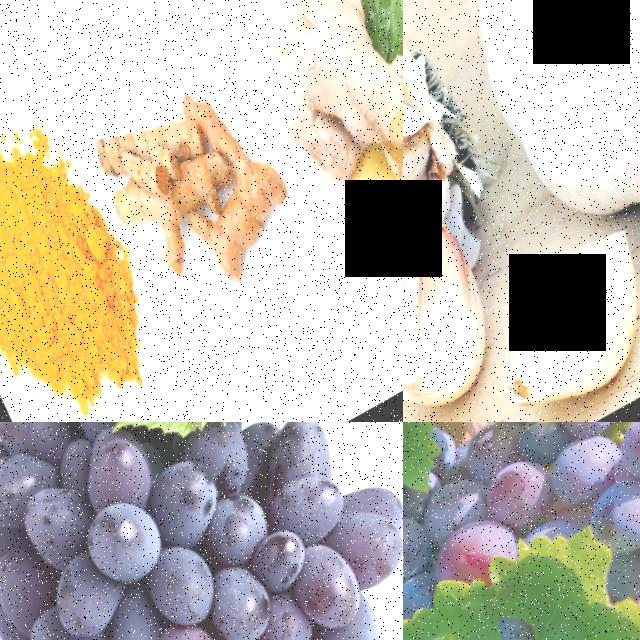garlic: (422, 0, 640, 253), (471, 222, 640, 422), (403, 210, 542, 422), (403, 0, 482, 353)
ginger: (236, 0, 403, 178)
grapes: (0, 422, 403, 640), (518, 422, 640, 640)
